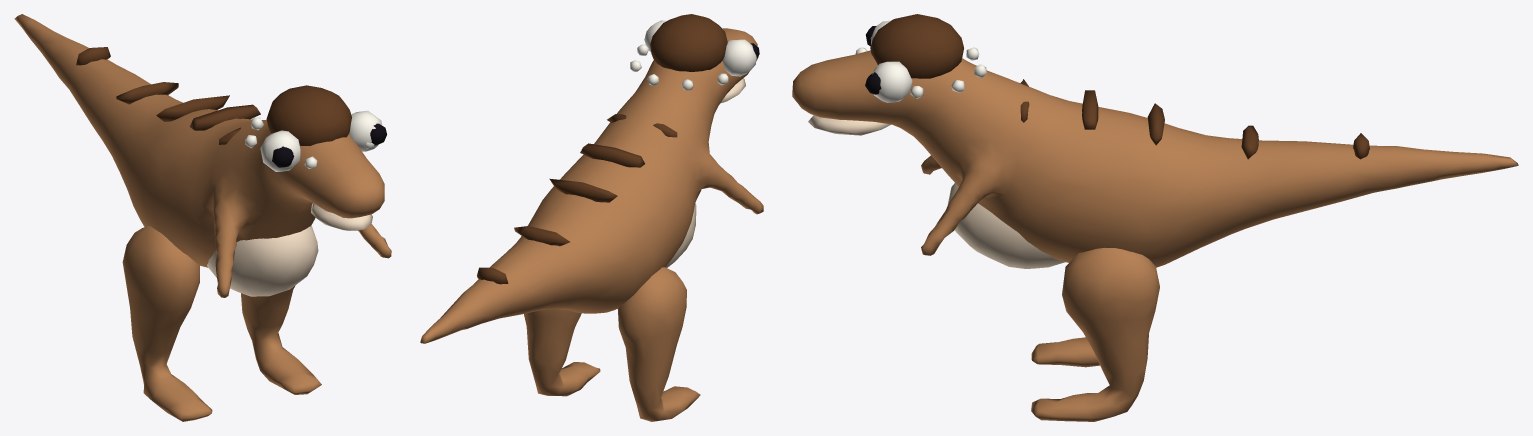
The model's file is Dino_Pachycephalosaurus.fbx.
3 views of the same model, side by side, from view 1: azimuth 30°, elevation 25°; view 2: azimuth 150°, elevation 25°; view 3: azimuth 270°, elevation 25° (orthographic). The views are drawn at different scales.
Parts seen in each view (by area): view 1: Body, LegL, Accent, Belly, LegR, EyeWhite, Pupil; view 2: Body, LegL, Accent, LegR, EyeWhite, Belly; view 3: Body, LegR, Accent, Belly, EyeWhite, LegL.
Boxes of the visible parts, <box> form: Body: <box>14,14,391,297</box>; LegL: <box>122,226,212,421</box>; Accent: <box>76,47,351,145</box>; Belly: <box>207,203,372,296</box>; LegR: <box>241,285,321,394</box>; EyeWhite: <box>245,110,382,171</box>; Pupil: <box>272,123,386,167</box>; Body: <box>420,28,763,343</box>; LegL: <box>618,267,700,421</box>; Accent: <box>477,14,727,284</box>; LegR: <box>524,309,600,396</box>; EyeWhite: <box>630,20,756,90</box>; Belly: <box>665,78,745,267</box>; Body: <box>792,50,1518,267</box>; LegR: <box>1031,248,1159,421</box>; Accent: <box>870,14,1369,159</box>; Belly: <box>808,115,1065,268</box>; EyeWhite: <box>855,20,986,102</box>; LegL: <box>1031,337,1099,367</box>.
Size of the model in its own units: 1.98 by 4 by 7.12.
